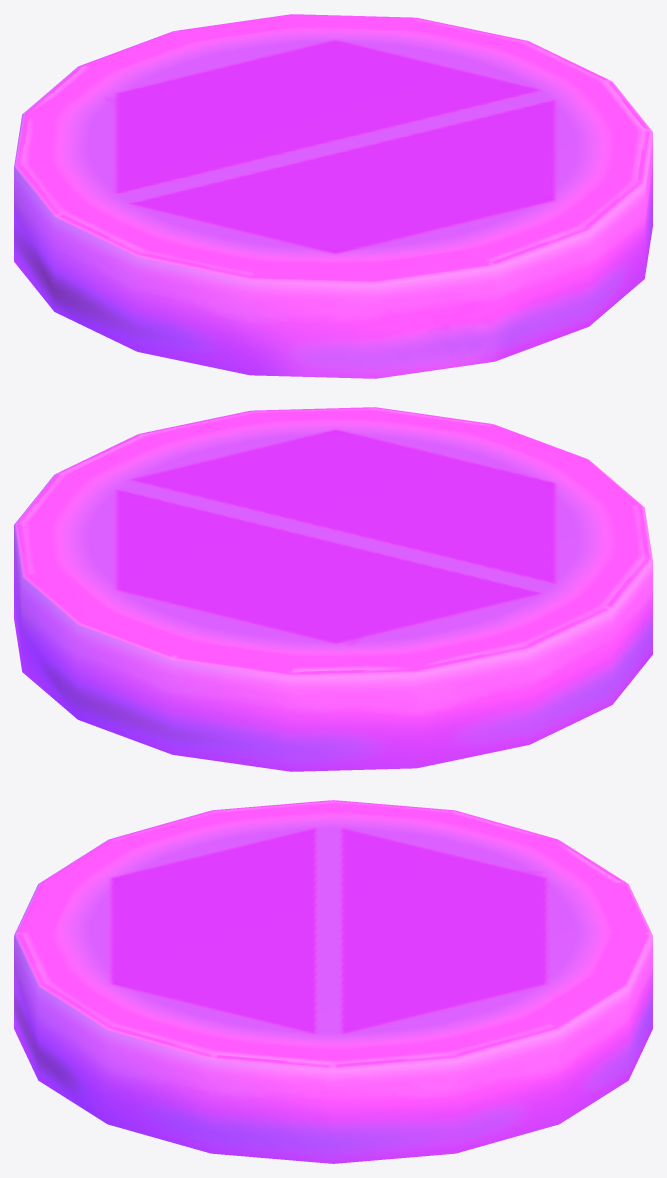
The model's file is ButtonPressHexagon.glb.
The picture shows the model from 3 angles, top to bottom: view 1: azimuth 30°, elevation 25°; view 2: azimuth 150°, elevation 25°; view 3: azimuth 270°, elevation 25°; orthographic projection.
Parts seen in each view (by area): view 1: Cube.013; view 2: Cube.013; view 3: Cube.013.
Boxes of the visible parts, <box> form: Cube.013: <box>14,14,652,378</box>; Cube.013: <box>14,407,652,771</box>; Cube.013: <box>14,800,652,1163</box>.
Size of the model in its own units: 1.4 by 0.2363 by 1.4.
1 material, 1 textured.
